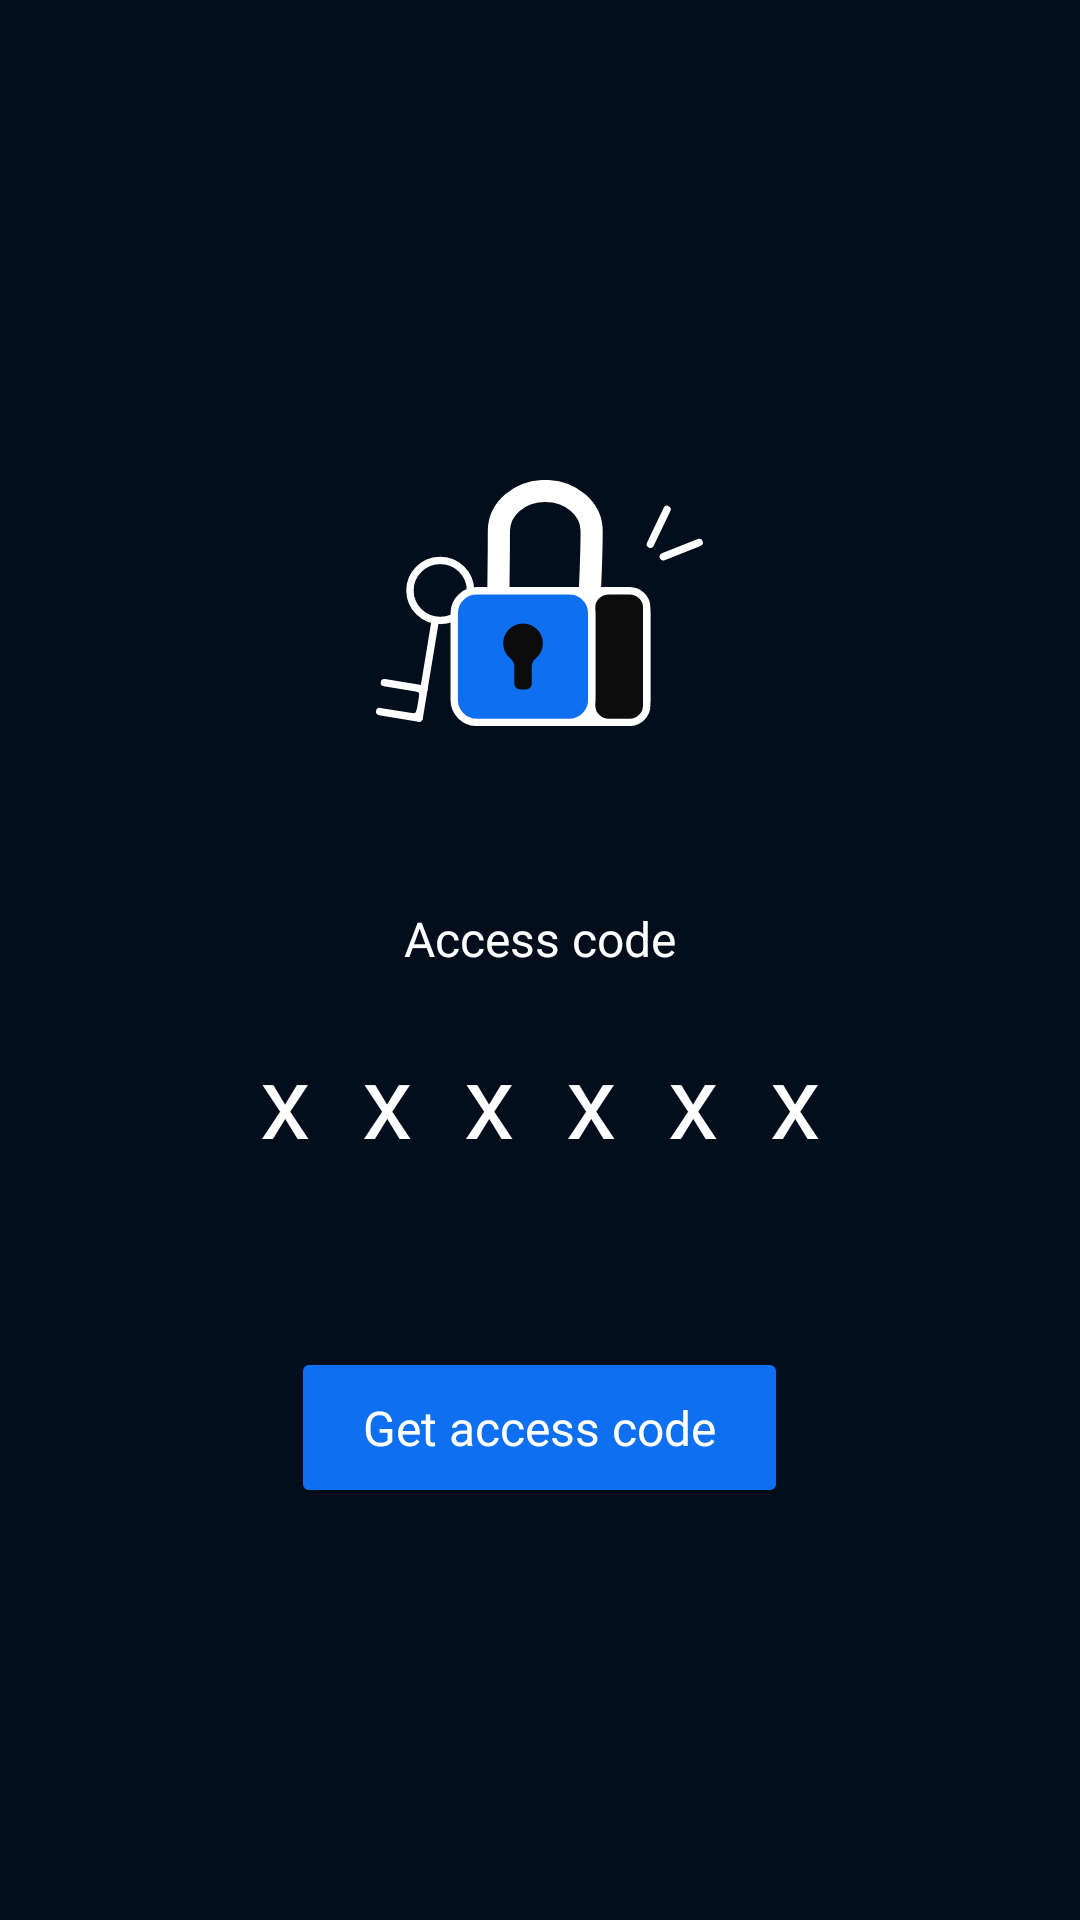

Icon click points for this 1080x1920 phone screenshot, format [x,y]:
locked: [539,603]
